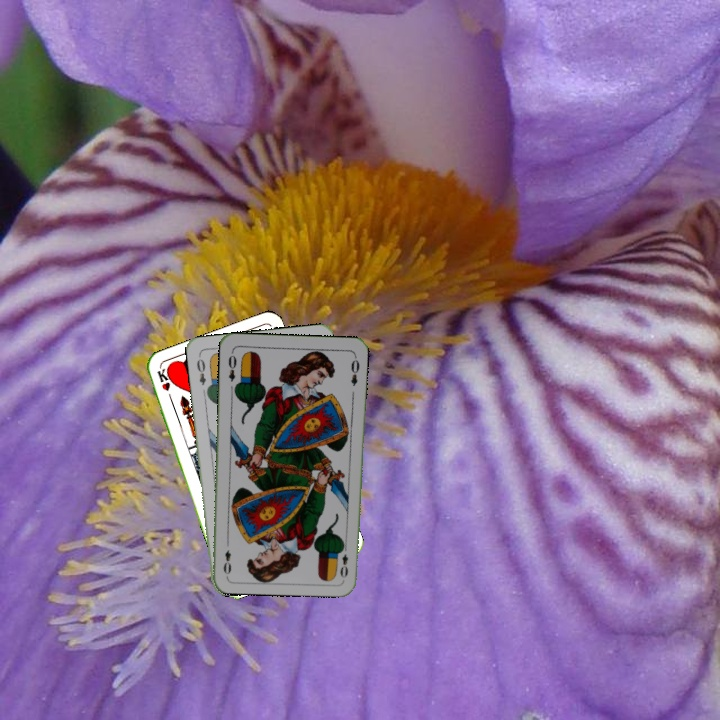EO: (336, 540, 351, 580), (192, 352, 208, 387), (224, 348, 239, 384)
HK: (153, 365, 176, 405)
